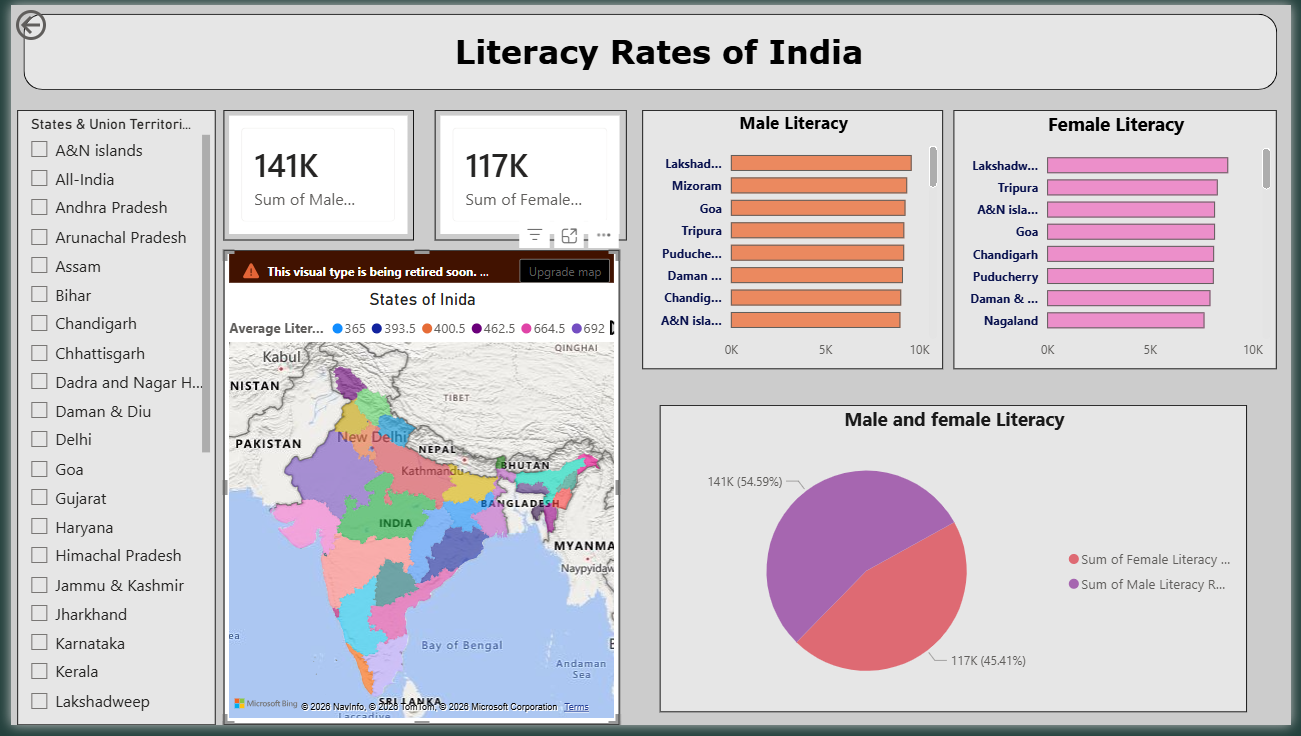

Layout of this report page (visuals, bound fields, positions):
{"tool":"powerbi","page":{"name":"Page 1","canvas":[1280,720],"ordinal":0},"visuals":[{"type":"shape","box":[12.5,8.8,1253.8,76.2],"z":0},{"type":"textbox","box":[423.8,22.5,448.8,62.5],"z":1000},{"type":"filledMap","title":"States of Inida","fields":{"Category":["LiteracyRate India.States & Union Territories"],"Series":["LiteracyRate India.Average Literacy"]},"box":[212.8,245.3,396.5,474.4],"z":2000},{"type":"shape","box":[12.5,105,186.2,615],"z":3000},{"type":"actionButton","box":[0,0,100,40],"z":4000},{"type":"pieChart","title":"Male and female Literacy","fields":{"Y":["Sum(LiteracyRate India.Female Literacy Rate %)","Sum(LiteracyRate India.Male Literacy Rate %)"]},"box":[648.8,400,587.5,307.5],"z":5000},{"type":"slicer","fields":{"Values":["LiteracyRate India.States & Union Territories"]},"box":[6.2,105,198.8,615],"z":6000},{"type":"clusteredBarChart","title":"Female Literacy","fields":{"Category":["LiteracyRate India.States & Union Territories"],"Y":["Sum(LiteracyRate India.Female Literacy Rate %)"]},"box":[943,104.7,323.3,259.3],"z":7000},{"type":"cardVisual","fields":{"Data":["Sum(LiteracyRate India.Male Literacy Rate %)"]},"box":[212.8,104.7,190.7,130.2],"z":8000},{"type":"cardVisual","fields":{"Data":["Sum(LiteracyRate India.Female Literacy Rate %)"]},"box":[423.3,104.7,191.9,130.2],"z":9000},{"type":"clusteredBarChart","title":"Male Literacy ","fields":{"Category":["LiteracyRate India.States & Union Territories"],"Y":["Sum(LiteracyRate India.Male Literacy Rate %)"]},"box":[631.4,104.7,301.2,259.3],"z":10000}]}

Visuals, with their boxes in screenshot pixels (x1, y1, x2, y2), scaled from the page's 1280x720 canvas onto the 1301x736 screenshot:
shape: box=[13, 9, 1287, 87]
textbox: box=[431, 23, 887, 87]
"States of Inida" filledMap: box=[216, 251, 619, 735]
shape: box=[13, 107, 202, 735]
actionButton: box=[0, 0, 102, 41]
"Male and female Literacy" pieChart: box=[659, 409, 1257, 723]
slicer - LiteracyRate India.States & Union Territories: box=[6, 107, 208, 735]
"Female Literacy" clusteredBarChart: box=[958, 107, 1287, 372]
cardVisual - Sum(LiteracyRate India.Male Literacy Rate %): box=[216, 107, 410, 240]
cardVisual - Sum(LiteracyRate India.Female Literacy Rate %): box=[430, 107, 625, 240]
"Male Literacy " clusteredBarChart: box=[642, 107, 948, 372]
